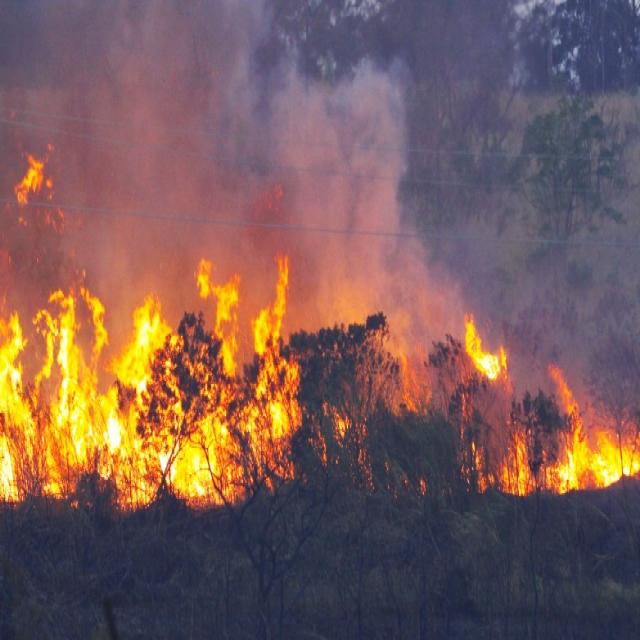fire: (3, 306, 158, 496), (177, 401, 302, 498), (552, 410, 639, 492)
